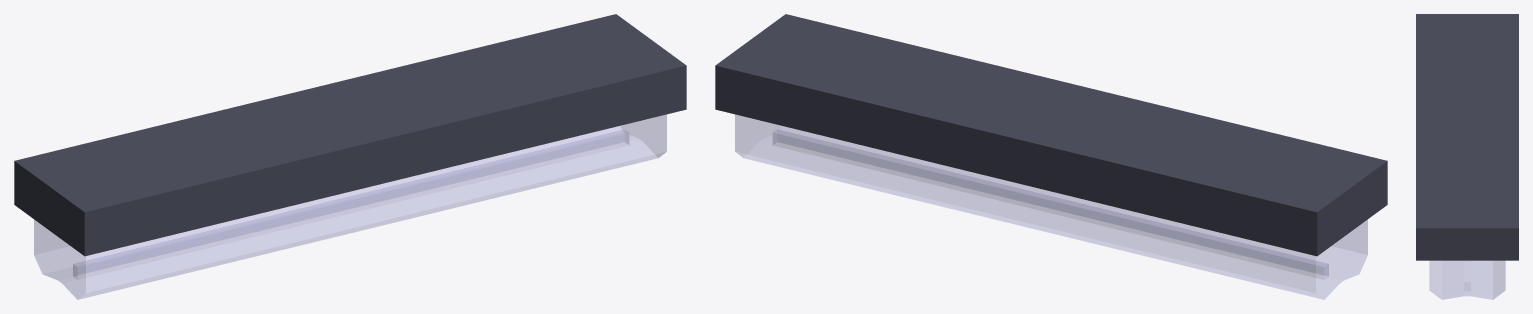
Rendered from STORE light.fbx.
3 renders of one model, left to right at view 1: azimuth 30°, elevation 25°; view 2: azimuth 150°, elevation 25°; view 3: azimuth 270°, elevation 25°, orthographic. The views are drawn at different scales.
Visible parts, largest first — view 1: Cube; view 2: Cube; view 3: Cube.
Part boxes in pixels (x1,y1,x2,y2): Cube: [14, 14, 686, 299]; Cube: [715, 14, 1387, 299]; Cube: [1416, 14, 1518, 299].
Size of the model in its own units: 5.91 by 1.2 by 0.9668.
